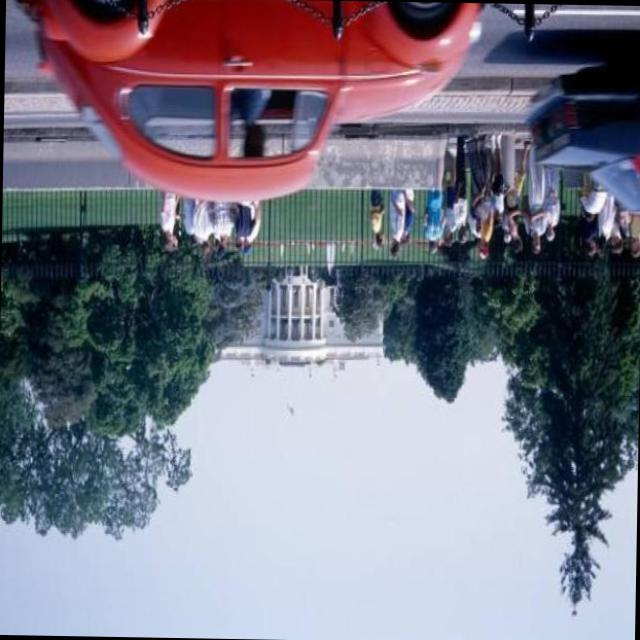car: (24, 0, 479, 204)
